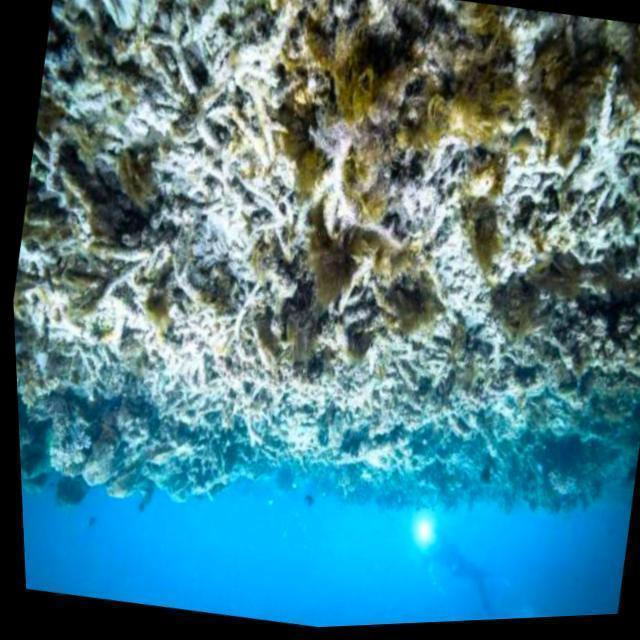Dead Coral: (71, 0, 350, 297), (422, 66, 640, 311), (162, 314, 465, 480), (9, 247, 257, 440), (554, 281, 640, 402)
